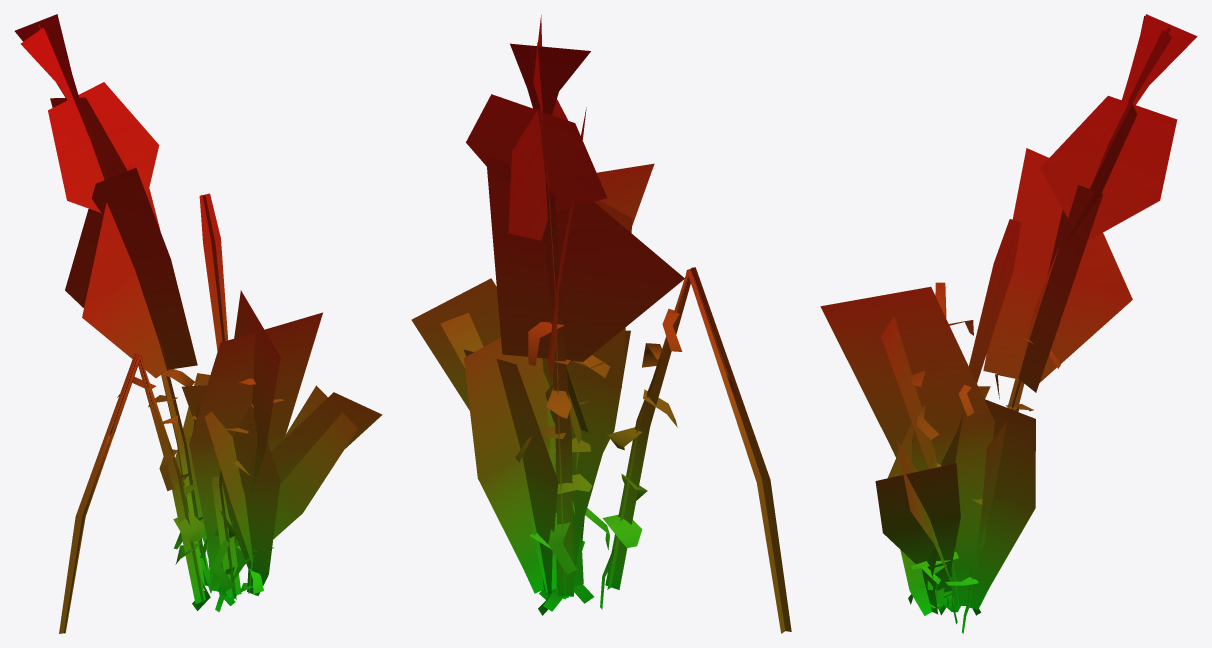
File: Willowherb_LOD2_Var3_tbfpbbhr.fbx
3 renders of one model, left to right at view 1: azimuth 30°, elevation 25°; view 2: azimuth 150°, elevation 25°; view 3: azimuth 270°, elevation 25°, orthographic. The views are drawn at different scales.
Parts seen in each view (by area): view 1: _97f4_Var3_LOD2; view 2: _97f4_Var3_LOD2; view 3: _97f4_Var3_LOD2.
Part boxes in pixels (x1,y1,x2,y2): _97f4_Var3_LOD2: (14,14,382,633); _97f4_Var3_LOD2: (411,15,791,633); _97f4_Var3_LOD2: (820,14,1197,633).
Size of the model in its own units: 10.74 by 18.26 by 10.84.
